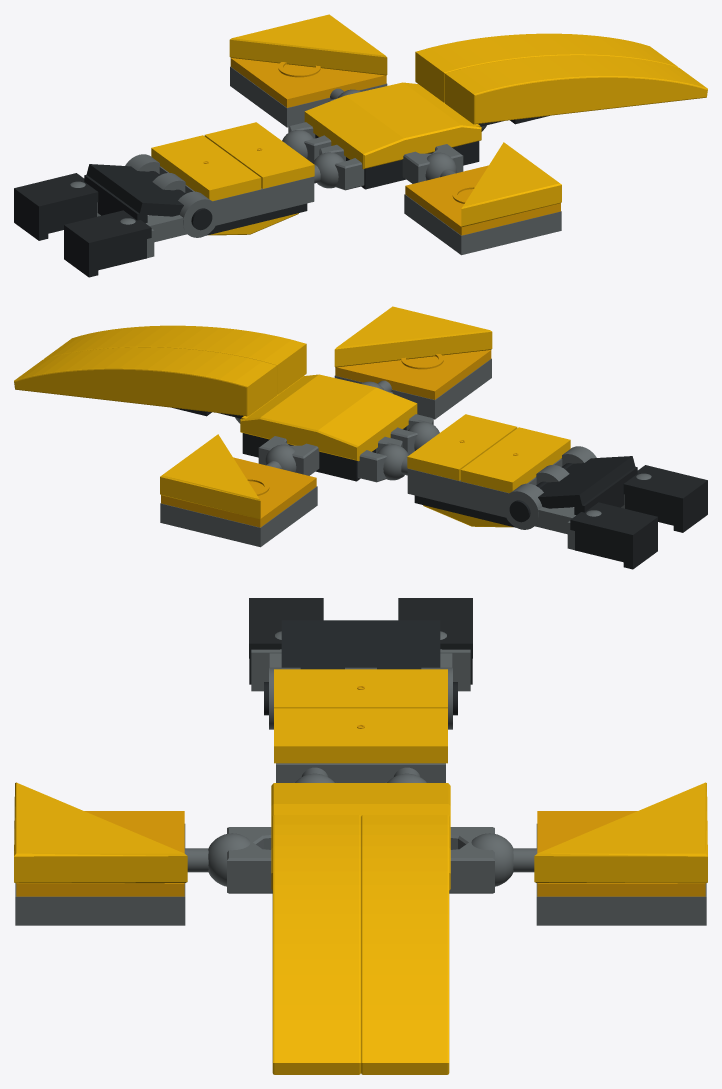
Rendered from pterosaur-resting.glb.
The picture shows the model from 3 angles, top to bottom: view 1: azimuth 30°, elevation 25°; view 2: azimuth 150°, elevation 25°; view 3: azimuth 270°, elevation 25°; orthographic projection. The views are drawn at different scales.
Visible parts, largest first — view 1: Smooth curved beak tile (×2), Raised triangular wing face (×2), Rounded chest surface, Individual lower torso tile (×2), Square wing plate (×2), Foot sole (×2), Wing underside rim (×3), Folded black knee panel, U shaped ball cup (×3), Lower torso backing, Barrel hinge knuckle (×3), Foot heel wall (×2) (+8 smaller); view 2: Smooth curved beak tile (×2), Raised triangular wing face (×2), Rounded chest surface, Individual lower torso tile (×2), Square wing plate (×2), Foot sole (×2), Wing underside rim (×3), Folded black knee panel, U shaped ball cup (×3), Lower torso backing, Foot heel wall (×2), Barrel hinge knuckle (×3) (+8 smaller); view 3: Smooth curved beak tile (×2), Raised triangular wing face (×2), Individual lower torso tile (×2), Wing underside rim (×2), Square wing plate (×2), Folded black knee panel, Rounded chest surface, U shaped ball cup (×2), Foot sole (×2), Lower torso backing, Ball joint (×2), Ankle cup backing (×2).
Boxes of the visible parts, x1=… form: Smooth curved beak tile (×2): x1=415, y1=33, x2=707, y2=124; Raised triangular wing face (×2): x1=229, y1=14, x2=561, y2=226; Rounded chest surface: x1=304, y1=82, x2=481, y2=169; Individual lower torso tile (×2): x1=151, y1=122, x2=314, y2=201; Square wing plate (×2): x1=230, y1=58, x2=560, y2=235; Foot sole (×2): x1=14, y1=173, x2=151, y2=252; Wing underside rim (×3): x1=230, y1=66, x2=553, y2=255; Folded black knee panel: x1=86, y1=164, x2=183, y2=216; U shaped ball cup (×3): x1=288, y1=122, x2=463, y2=190; Lower torso backing: x1=159, y1=166, x2=314, y2=225; Barrel hinge knuckle (×3): x1=125, y1=154, x2=218, y2=237; Foot heel wall (×2): x1=14, y1=193, x2=98, y2=277; Smooth curved beak tile (×2): x1=14, y1=325, x2=306, y2=416; Raised triangular wing face (×2): x1=160, y1=306, x2=492, y2=518; Rounded chest surface: x1=240, y1=374, x2=417, y2=461; Individual lower torso tile (×2): x1=407, y1=414, x2=570, y2=493; Square wing plate (×2): x1=161, y1=350, x2=491, y2=527; Foot sole (×2): x1=570, y1=465, x2=707, y2=544; Wing underside rim (×3): x1=168, y1=358, x2=491, y2=547; Folded black knee panel: x1=538, y1=456, x2=635, y2=508; U shaped ball cup (×3): x1=258, y1=414, x2=433, y2=482; Lower torso backing: x1=407, y1=458, x2=562, y2=517; Foot heel wall (×2): x1=623, y1=487, x2=707, y2=569; Barrel hinge knuckle (×3): x1=503, y1=446, x2=596, y2=529; Smooth curved beak tile (×2): x1=272, y1=815, x2=449, y2=1074; Raised triangular wing face (×2): x1=14, y1=782, x2=707, y2=883; Individual lower torso tile (×2): x1=274, y1=669, x2=447, y2=763; Wing underside rim (×2): x1=15, y1=891, x2=706, y2=925; Square wing plate (×2): x1=16, y1=811, x2=705, y2=896; Folded black knee panel: x1=281, y1=620, x2=440, y2=669; Rounded chest surface: x1=271, y1=783, x2=450, y2=890; U shaped ball cup (×2): x1=227, y1=827, x2=494, y2=893; Foot sole (×2): x1=249, y1=598, x2=472, y2=658; Lower torso backing: x1=276, y1=763, x2=445, y2=782; Ball joint (×2): x1=208, y1=833, x2=513, y2=886; Ankle cup backing (×2): x1=251, y1=649, x2=470, y2=691.
Size of the model in its own units: 6.81 by 0.9615 by 4.37.
